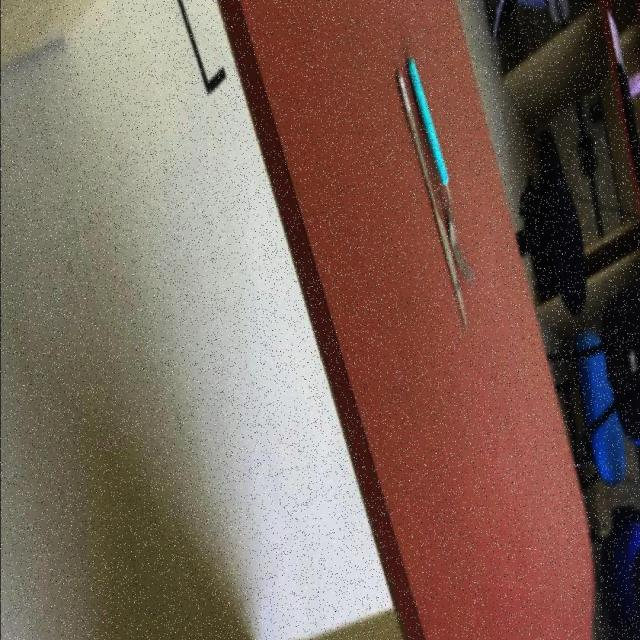Fork: (406, 55, 476, 285)
Knife: (396, 65, 474, 330), (406, 54, 476, 287)
